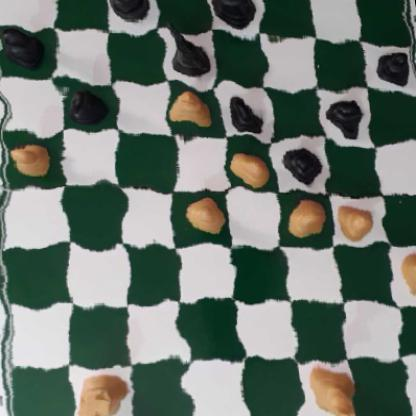black-king: (208, 0, 257, 30)
black-knight: (164, 25, 210, 76)
black-pawn: (219, 91, 265, 140), (0, 26, 46, 67), (371, 48, 415, 90), (64, 86, 109, 125), (282, 143, 321, 184), (327, 94, 365, 136)
black-rook: (105, 0, 154, 23)
white-bishop: (171, 83, 217, 134)
white-king: (304, 362, 357, 416)
white-pawn: (2, 137, 54, 181), (283, 197, 327, 240), (181, 197, 229, 235), (231, 145, 271, 190), (332, 202, 378, 239), (393, 248, 416, 297)
white-rook: (72, 367, 132, 416)
